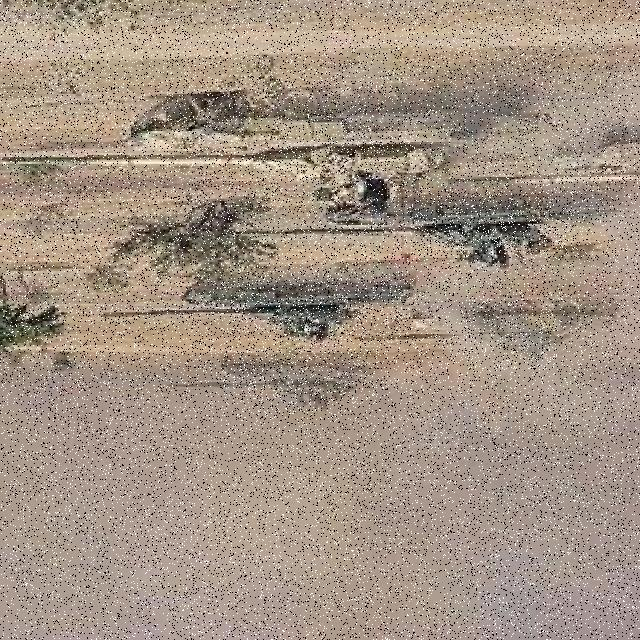MIL_MBT: (168, 79, 435, 214), (215, 271, 409, 340), (227, 350, 394, 420), (411, 190, 574, 255), (466, 290, 563, 370)
